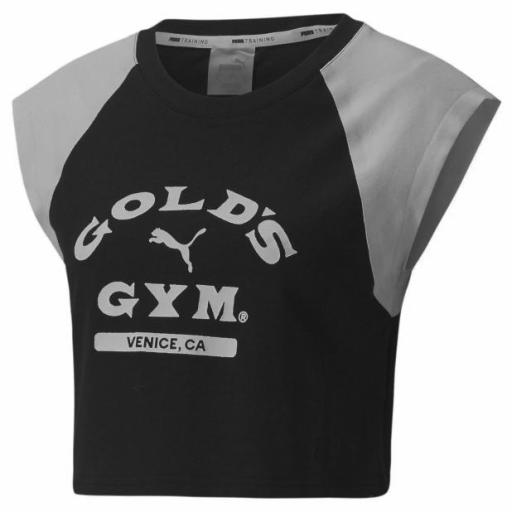Puma: (146, 224, 209, 276)
